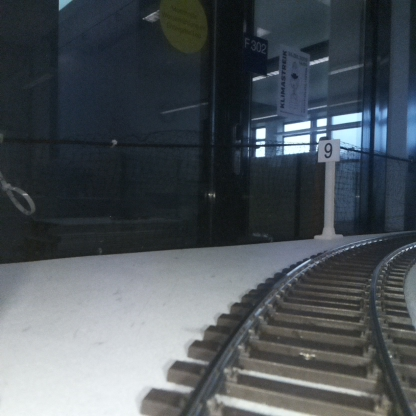white-info-9: (318, 138, 339, 239)
